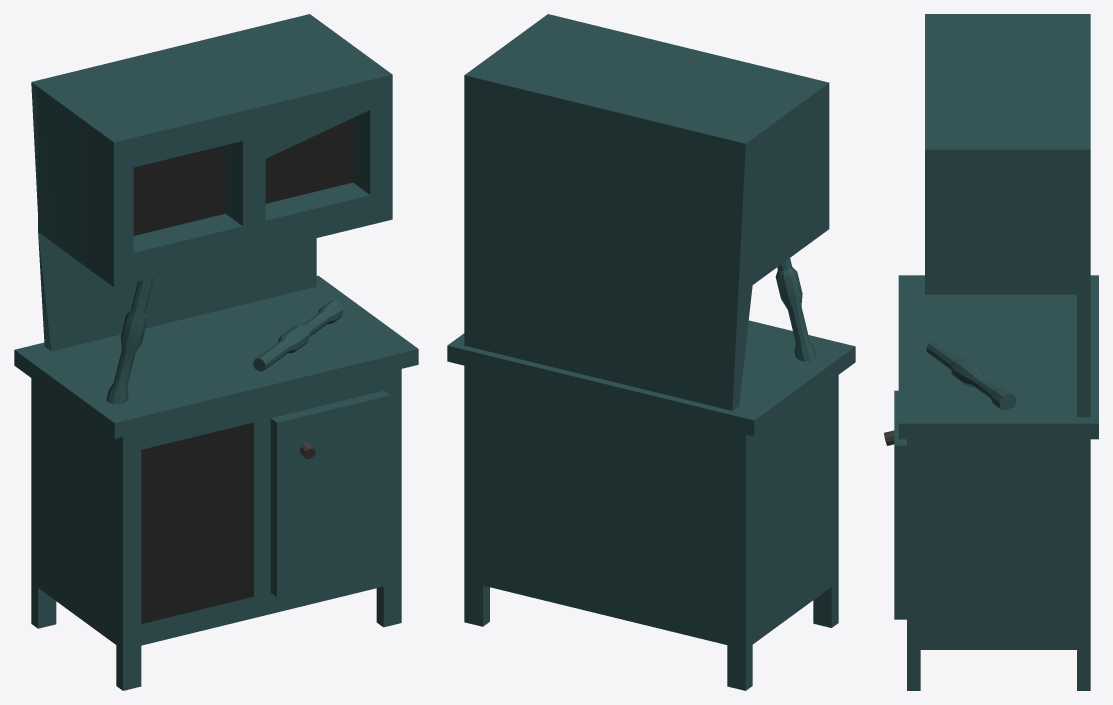
The model's file is Armoire.D.fbx.
3 renders of one model, left to right at view 1: azimuth 30°, elevation 25°; view 2: azimuth 150°, elevation 25°; view 3: azimuth 270°, elevation 25°, orthographic.
Visible parts, largest first — view 1: etagere_A; view 2: etagere_A; view 3: etagere_A.
Part boxes in pixels (x1,y1,x2,y2): etagere_A: [14, 14, 418, 690]; etagere_A: [447, 14, 855, 690]; etagere_A: [884, 14, 1098, 690].
Bounding box in the file's own units: 247 × 420 × 151.
